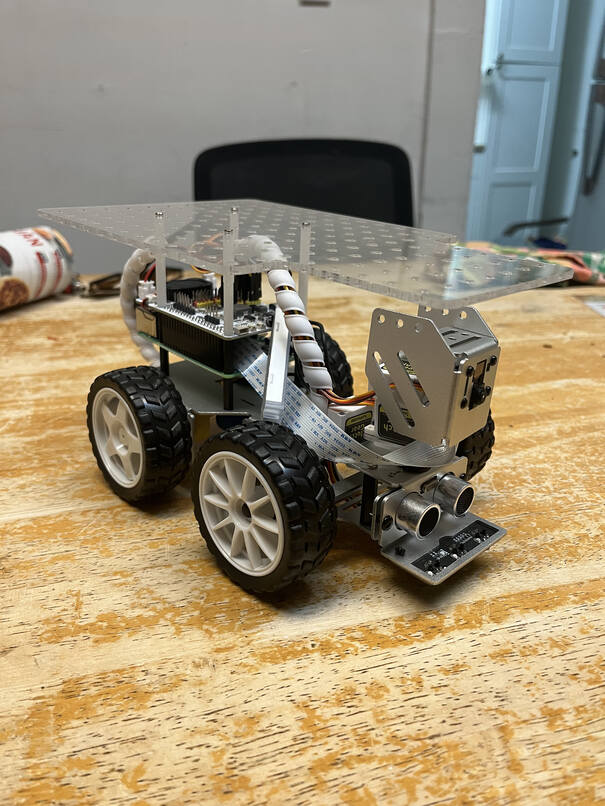vehicle: (36, 203, 575, 609)
